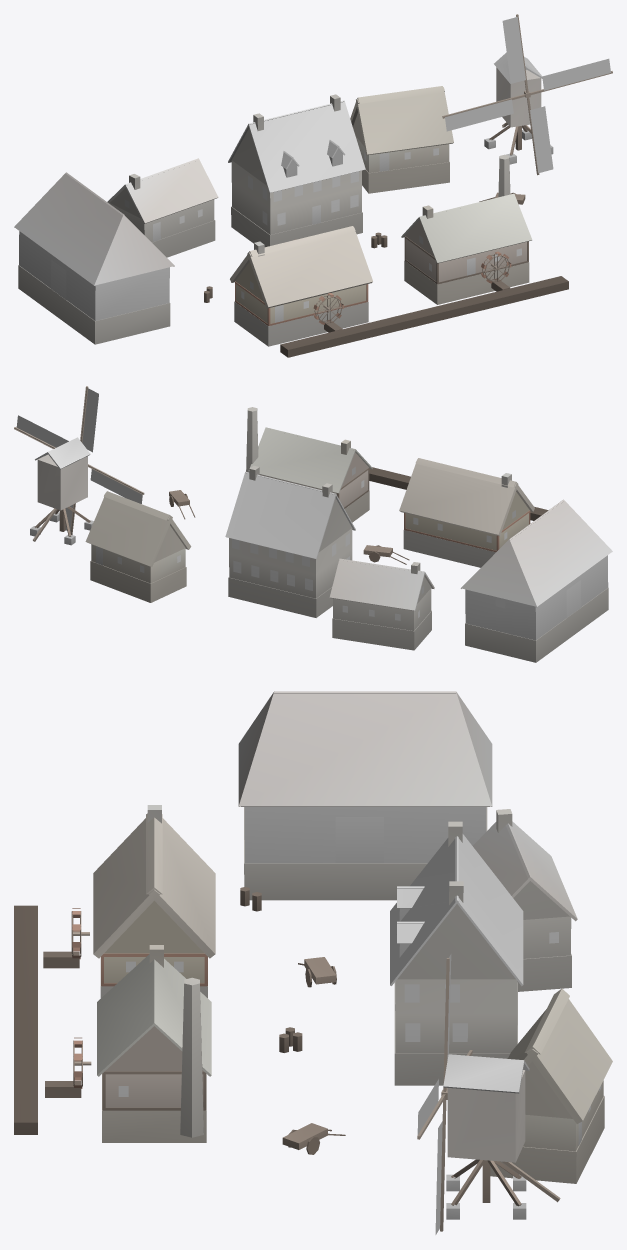
Rendered from mill_3.glb.
3 views of the same model, one above another, from view 1: azimuth 30°, elevation 25°; view 2: azimuth 150°, elevation 25°; view 3: azimuth 270°, elevation 25° (orthographic). The views are drawn at different scales.
Parts seen in each view (by area): view 1: mill_3; view 2: mill_3; view 3: mill_3.
Part boxes in pixels (x1,y1,x2,y2): mill_3: (14,14,612,357); mill_3: (14,386,612,662); mill_3: (14,691,612,1234).
Size of the model in its own units: 69.65 by 18.99 by 39.68.
